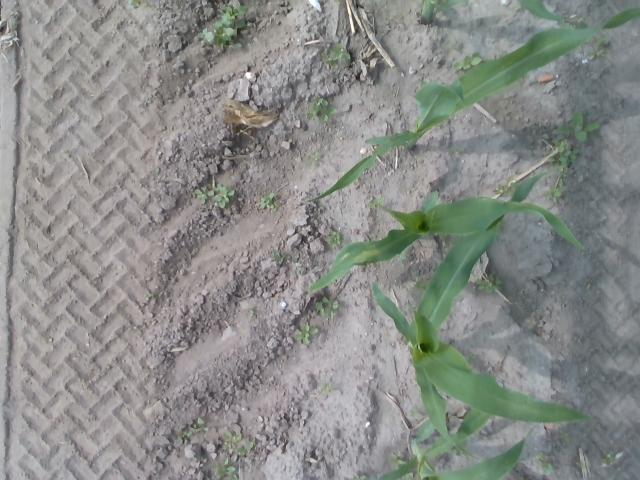Maize: (299, 10, 639, 204), (371, 170, 598, 458), (310, 197, 592, 292), (374, 426, 534, 478), (395, 0, 565, 23)
Weeds: (196, 4, 252, 50), (560, 107, 598, 149), (197, 176, 236, 211), (546, 136, 580, 173), (321, 40, 352, 73), (308, 96, 340, 124), (476, 274, 506, 302), (227, 432, 256, 457), (317, 291, 340, 321), (452, 54, 492, 70), (182, 419, 212, 440), (295, 322, 319, 346), (532, 456, 560, 475), (544, 182, 568, 204), (258, 188, 280, 212), (548, 430, 572, 451), (212, 462, 238, 478), (602, 449, 620, 468), (270, 250, 286, 268), (328, 232, 342, 250), (320, 378, 334, 396)
